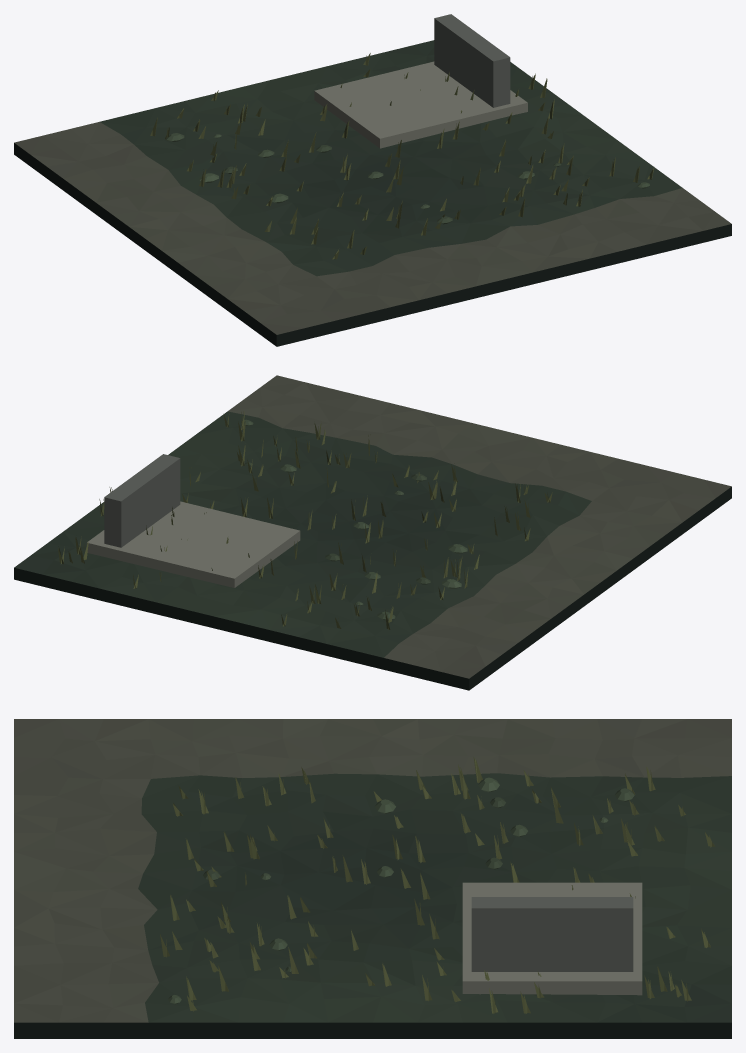
Rendered from CHUNK_ruined_monastery__rootbound_pilgrim_house__10.glb.
3 views of the same model, one above another, from view 1: azimuth 30°, elevation 25°; view 2: azimuth 150°, elevation 25°; view 3: azimuth 270°, elevation 25° (orthographic). The views are drawn at different scales.
Parts seen in each view (by area): view 1: CHUNK_ruined_monastery__rootbound_pilgrim_house__10; view 2: CHUNK_ruined_monastery__rootbound_pilgrim_house__10; view 3: CHUNK_ruined_monastery__rootbound_pilgrim_house__10.
Boxes of the visible parts, x1,y1,x2,y2 form: CHUNK_ruined_monastery__rootbound_pilgrim_house__10: [14, 14, 731, 346]; CHUNK_ruined_monastery__rootbound_pilgrim_house__10: [14, 375, 731, 690]; CHUNK_ruined_monastery__rootbound_pilgrim_house__10: [14, 719, 731, 1038].
Bounding box in the file's own units: 8 × 1.16 × 8.
